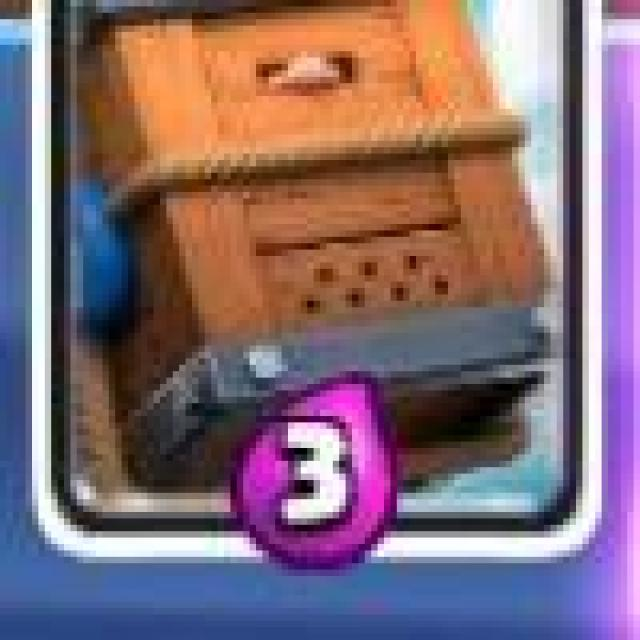Royal_Delivery: (29, 0, 606, 561)
